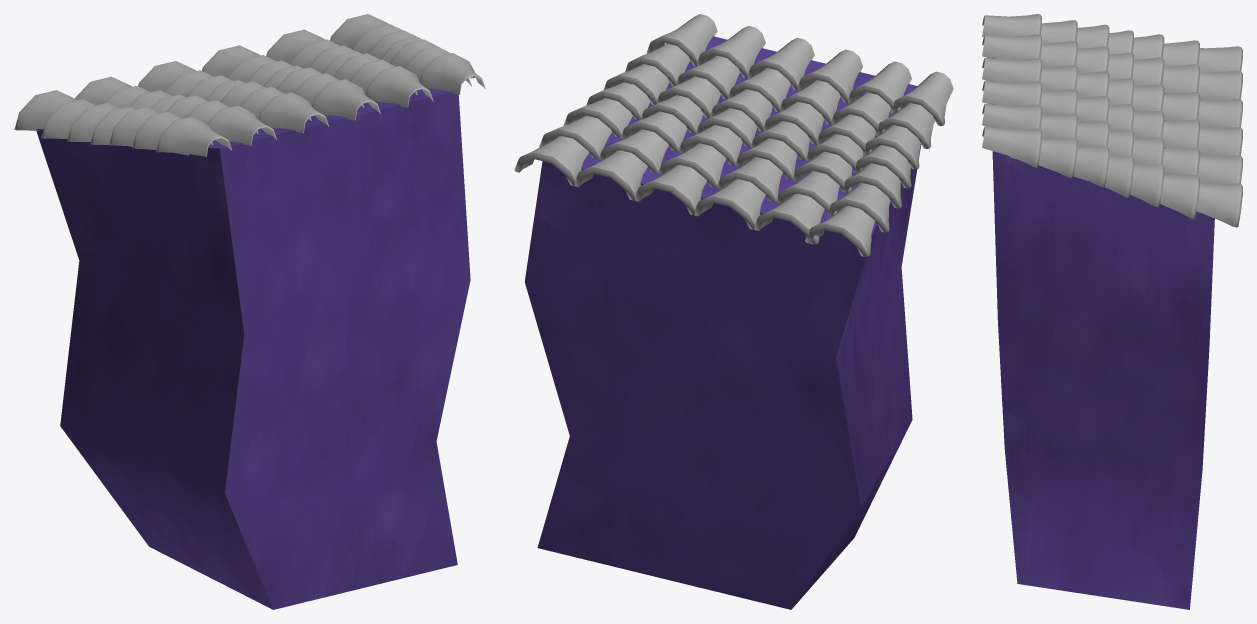
File: bat2.fbx
The picture shows the model from 3 angles, left to right: view 1: azimuth 30°, elevation 25°; view 2: azimuth 150°, elevation 25°; view 3: azimuth 270°, elevation 25°; orthographic projection. The views are drawn at different scales.
Visible parts, largest first — view 1: group33; view 2: group33; view 3: group33.
Part boxes in pixels (left/top/right/bottom): group33: left=14, top=14, right=485, bottom=609; group33: left=514, top=14, right=953, bottom=609; group33: left=982, top=14, right=1242, bottom=609.
Bounding box in the file's own units: 11.92 × 14.96 × 7.8.
